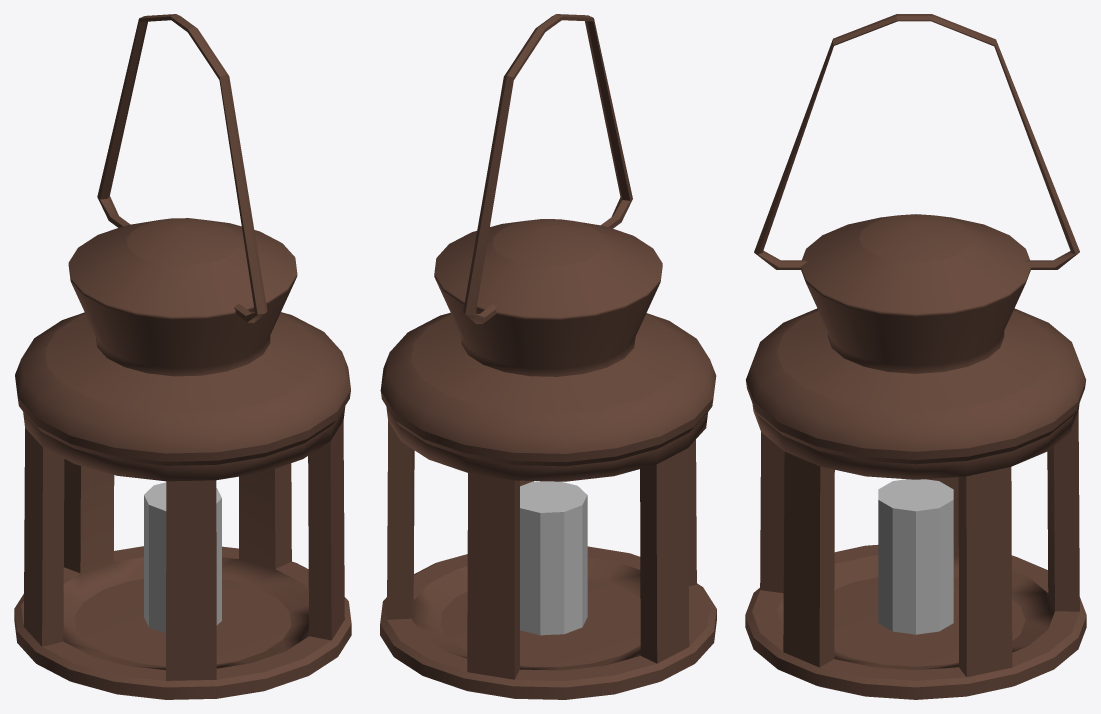
File: Lantern_Proxy.fbx
The picture shows the model from 3 angles, left to right: view 1: azimuth 30°, elevation 25°; view 2: azimuth 150°, elevation 25°; view 3: azimuth 270°, elevation 25°; orthographic projection.
Parts seen in each view (by area): view 1: Lantern_Proxy; view 2: Lantern_Proxy; view 3: Lantern_Proxy.
Boxes of the visible parts, x1,y1,x2,y2 form: Lantern_Proxy: [14, 14, 351, 699]; Lantern_Proxy: [380, 14, 716, 699]; Lantern_Proxy: [745, 14, 1086, 699].
Bounding box in the file's own units: 21.5 × 42.76 × 21.5.
